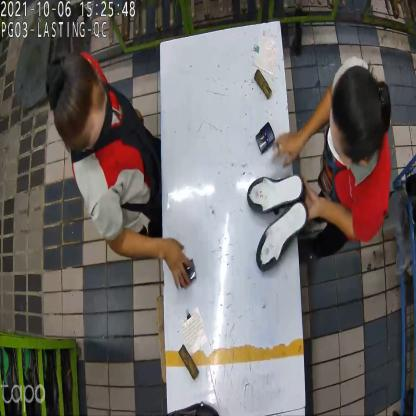shoes: (251, 172, 307, 266)
stamp: (255, 124, 276, 158), (178, 255, 198, 286)
